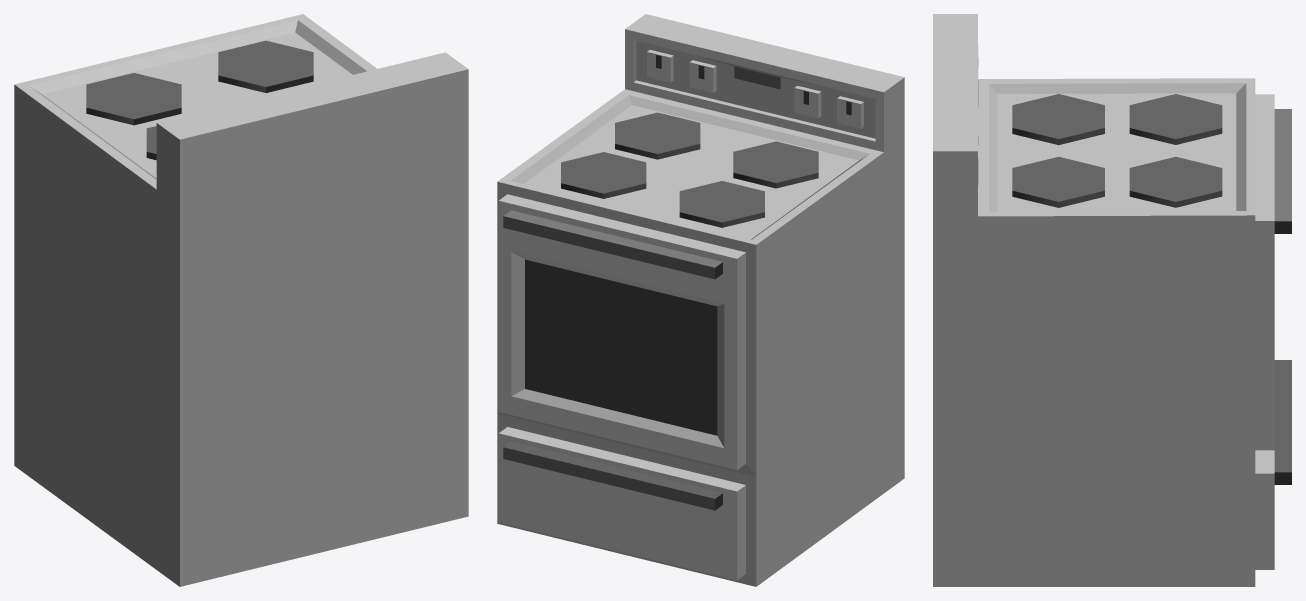
Rendered from Prop_Oven_White.fbx.
3 renders of one model, left to right at view 1: azimuth 30°, elevation 25°; view 2: azimuth 150°, elevation 25°; view 3: azimuth 270°, elevation 25°, orthographic. The views are drawn at different scales.
Parts seen in each view (by area): view 1: Kitchen_Oven; view 2: Kitchen_Oven; view 3: Kitchen_Oven.
Part boxes in pixels (bbox=[...]): Kitchen_Oven: bbox=[14, 14, 468, 586]; Kitchen_Oven: bbox=[497, 14, 904, 586]; Kitchen_Oven: bbox=[933, 14, 1291, 586].
Bounding box in the file's own units: 39.44 × 43.57 × 58.36.
1 material, 1 textured.
